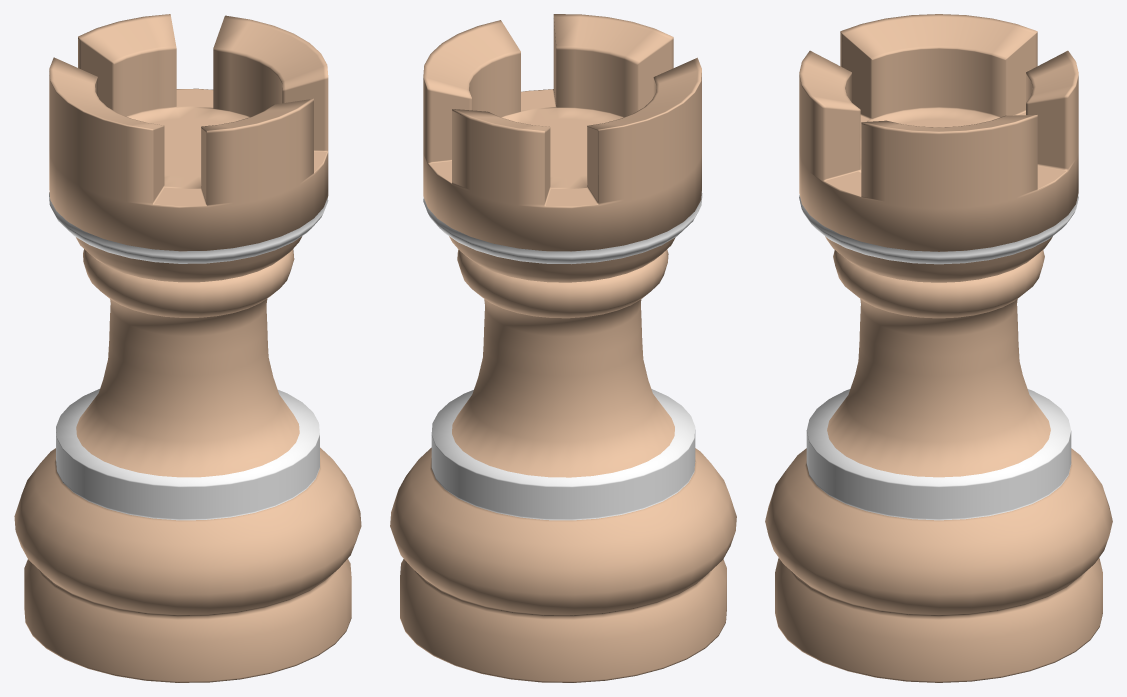
Rendered from rook_white.glb.
3 renders of one model, left to right at view 1: azimuth 30°, elevation 25°; view 2: azimuth 150°, elevation 25°; view 3: azimuth 270°, elevation 25°, orthographic.
Visible parts, largest first — view 1: Torre.001; view 2: Torre.001; view 3: Torre.001.
Part boxes in pixels (left/top/right/bottom): Torre.001: left=14, top=14, right=361, bottom=682; Torre.001: left=390, top=14, right=736, bottom=682; Torre.001: left=765, top=14, right=1112, bottom=682.
Size of the model in its own units: 0.2735 by 0.4695 by 0.2735.
